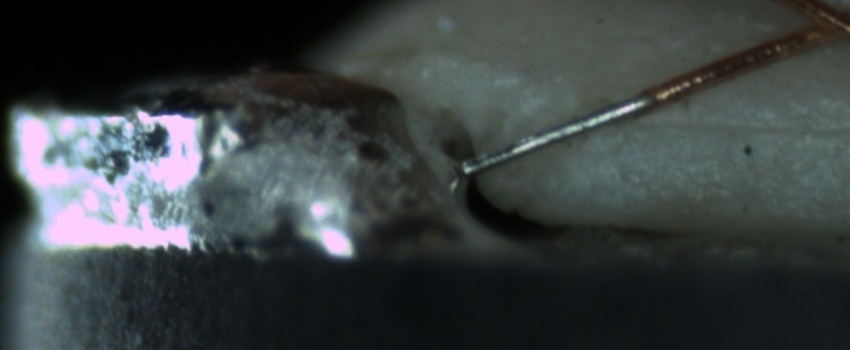CL: (776, 3, 849, 56)
DL: (619, 93, 850, 157)
TS: (455, 86, 646, 177)
